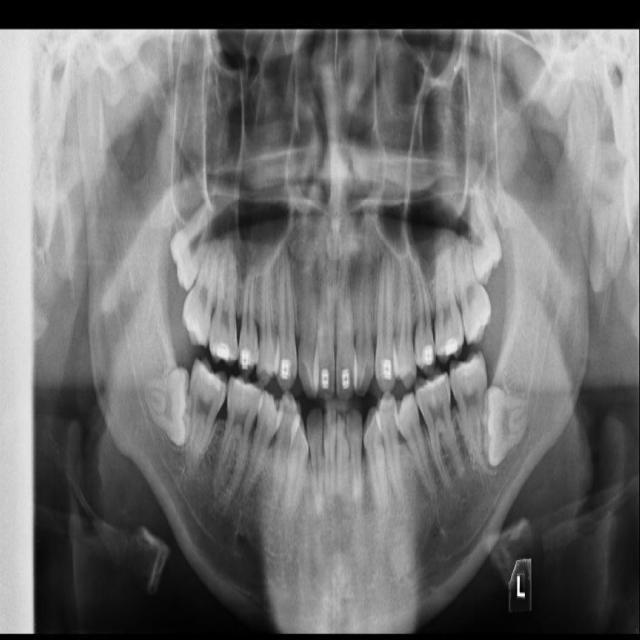3M ESPE Implant: (161, 196, 217, 294)
BioHorizons Implant: (448, 231, 496, 346)
BioLife Implant: (466, 179, 504, 286)
Biomet 3i Implant: (476, 386, 532, 470)
Blue Sky Bio Implant: (445, 349, 501, 479)
Caries: (177, 236, 223, 349)
Implant: (179, 357, 232, 480)
Keystone Dental Implant: (144, 365, 194, 447)
